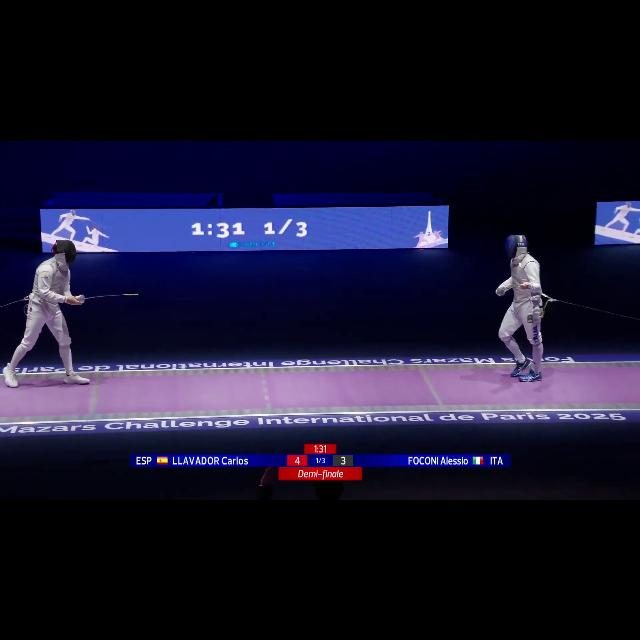blade: (73, 289, 147, 305), (494, 284, 530, 294)
